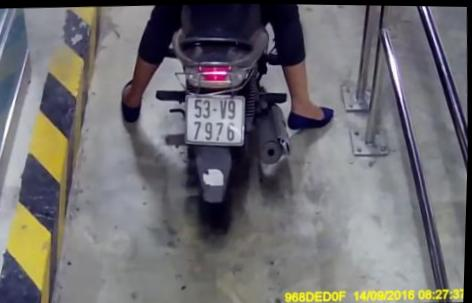LP: (184, 92, 247, 147)
